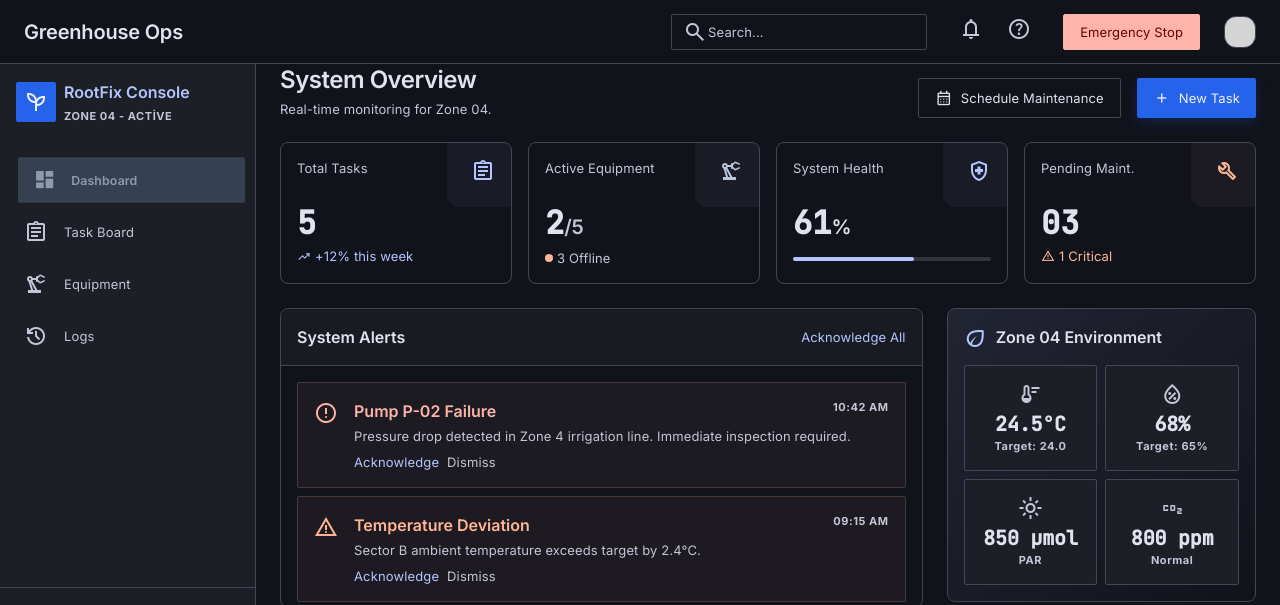
Test case: App shell › navigates to Task Board via sidebar
The width and height of the screenshot is (1280, 605).
Click the button "Task Board" at {"x": 128, "y": 232}, box [8,208,247,256]
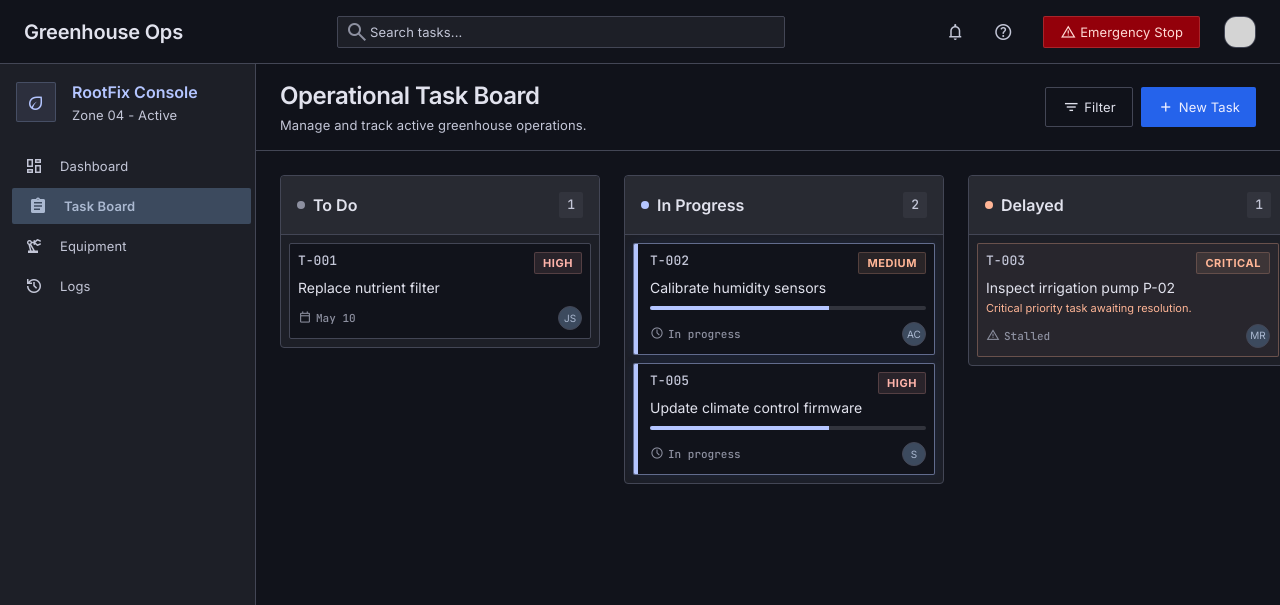
Check: the heading "Operational Task Board" is shown, box [280,81,540,110]
